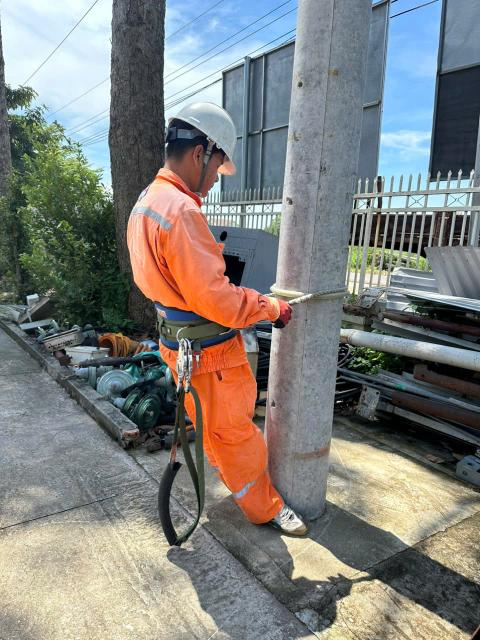gloves: (249, 286, 301, 345)
harness: (133, 283, 267, 361)
helmet: (148, 75, 266, 192)
shoes: (249, 486, 322, 547)
